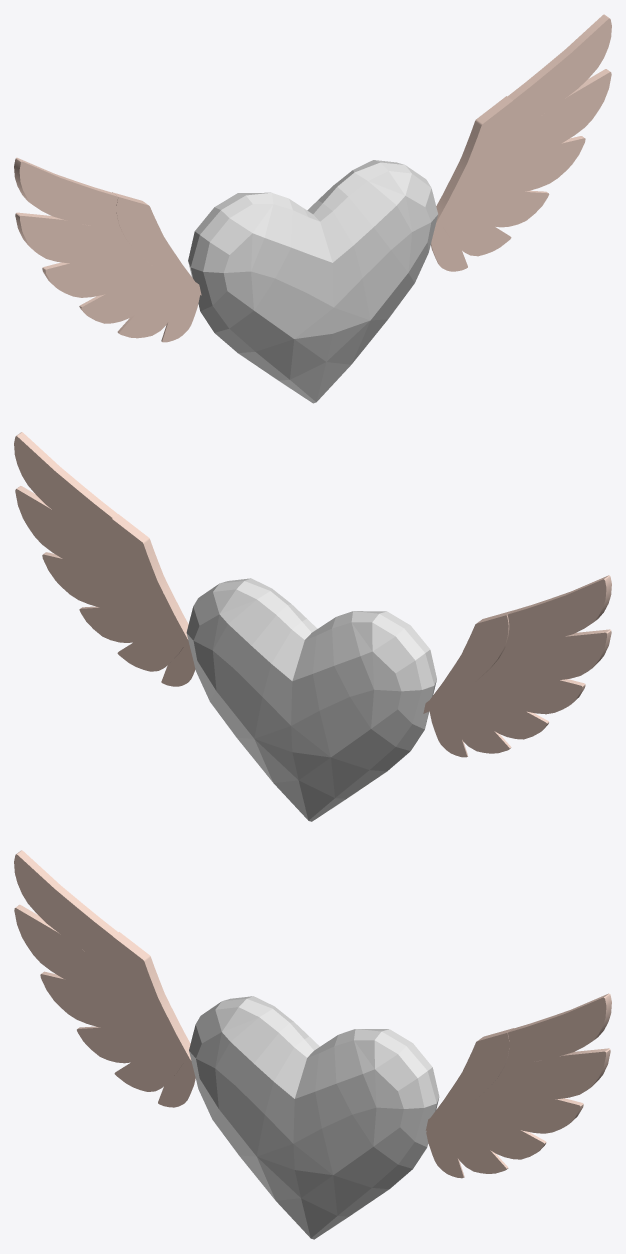
File: Heart.fbx
3 views of the same model, one above another, from view 1: azimuth 30°, elevation 25°; view 2: azimuth 150°, elevation 25°; view 3: azimuth 330°, elevation 25° (orthographic).
Visible parts, largest first — view 1: Heart, RightWing, LeftWing; view 2: Heart, RightWing, LeftWing; view 3: Heart, LeftWing, RightWing.
Part boxes in pixels (<box>): Heart: <box>188,160,438,403</box>; RightWing: <box>431,14,611,271</box>; LeftWing: <box>14,157,201,342</box>; Heart: <box>186,578,436,821</box>; RightWing: <box>14,432,195,686</box>; LeftWing: <box>423,575,611,757</box>; Heart: <box>189,996,439,1239</box>; LeftWing: <box>14,850,195,1107</box>; RightWing: <box>425,993,611,1178</box>.
Size of the model in its own units: 501 by 255 by 61.12.
